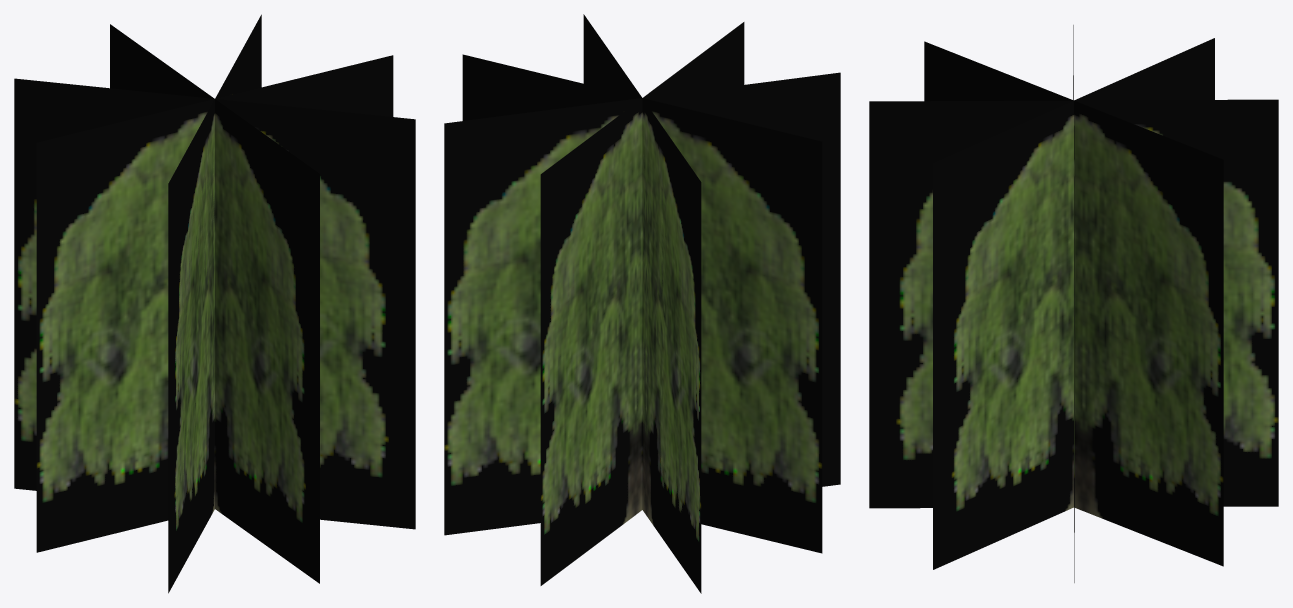
File: Willow.obj
The picture shows the model from 3 angles, left to right: view 1: azimuth 30°, elevation 25°; view 2: azimuth 150°, elevation 25°; view 3: azimuth 270°, elevation 25°; orthographic projection.
Parts seen in each view (by area): view 1: Plane.003; view 2: Plane.003; view 3: Plane.003.
Boxes of the visible parts, x1=… form: Plane.003: x1=14, y1=14, x2=415, y2=593; Plane.003: x1=444, y1=14, x2=840, y2=593; Plane.003: x1=869, y1=25, x2=1278, y2=582.
Bounding box in the file's own units: 0.1935 × 0.2122 × 0.1935.
Materials: 1 (1 with a texture image).
